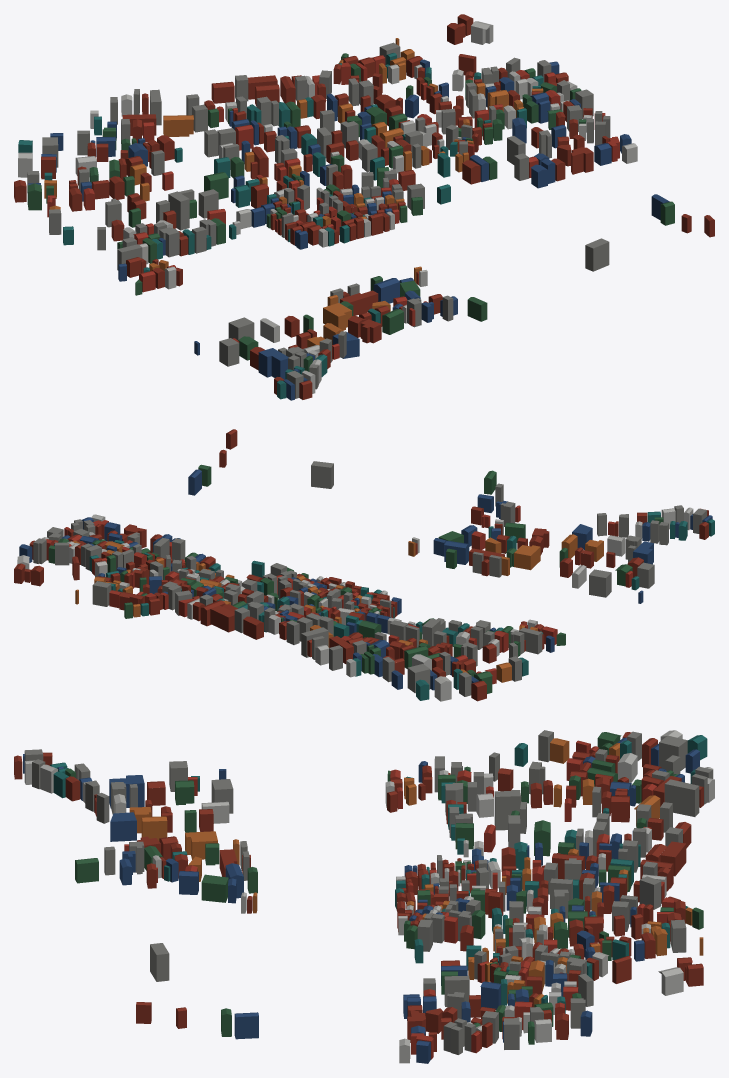
The model's file is near-16-54726-29745.3ba3ee69.glb.
3 views of the same model, one above another, from view 1: azimuth 30°, elevation 25°; view 2: azimuth 150°, elevation 25°; view 3: azimuth 270°, elevation 25° (orthographic). The views are drawn at different scales.
Bounding box in the file's own units: 597 × 83.1 × 589.
